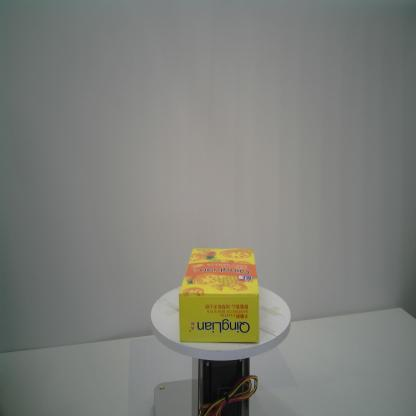Dessert: (176, 247, 262, 346)
